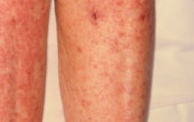SJS-TEN: (71, 0, 154, 121), (0, 0, 39, 118)
